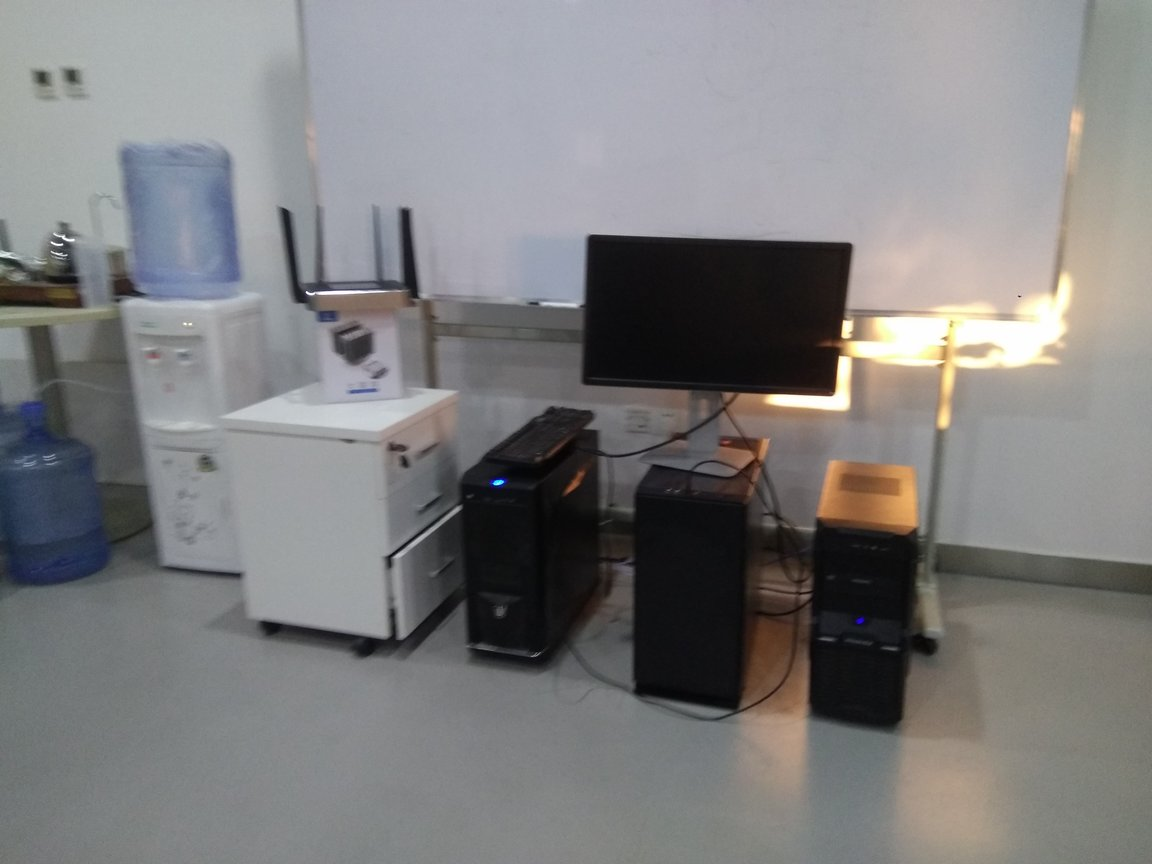computer: (629, 432, 760, 714), (460, 428, 604, 683), (805, 460, 916, 737)
drawer chest: (224, 381, 461, 663)
monitor: (581, 230, 848, 482)
scuttlebutt: (112, 142, 247, 309), (3, 398, 110, 587)
water dispenser: (119, 291, 275, 588)
